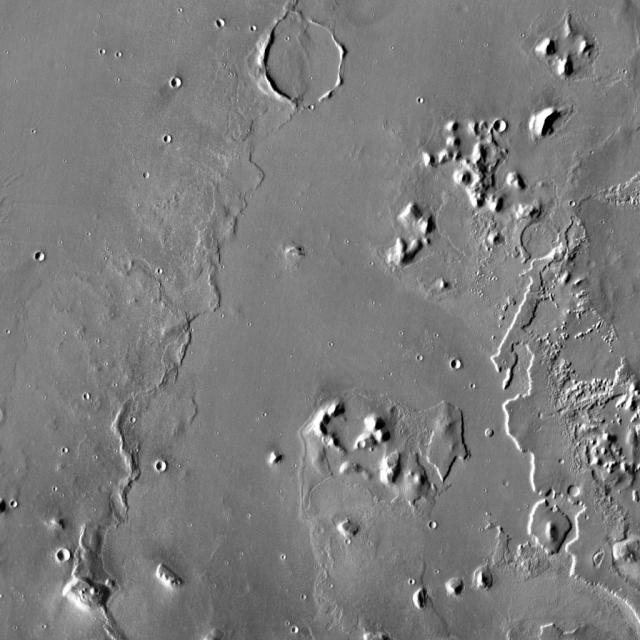crater: (265, 22, 346, 102), (327, 403, 375, 451), (522, 223, 560, 261), (58, 550, 72, 563), (496, 122, 508, 135), (570, 488, 582, 499), (452, 360, 462, 370), (158, 463, 168, 473), (172, 78, 182, 88), (589, 260, 598, 269), (38, 256, 46, 264), (218, 20, 226, 28), (429, 520, 436, 528), (166, 136, 173, 144), (359, 443, 367, 450), (250, 24, 257, 31), (543, 54, 550, 60)
